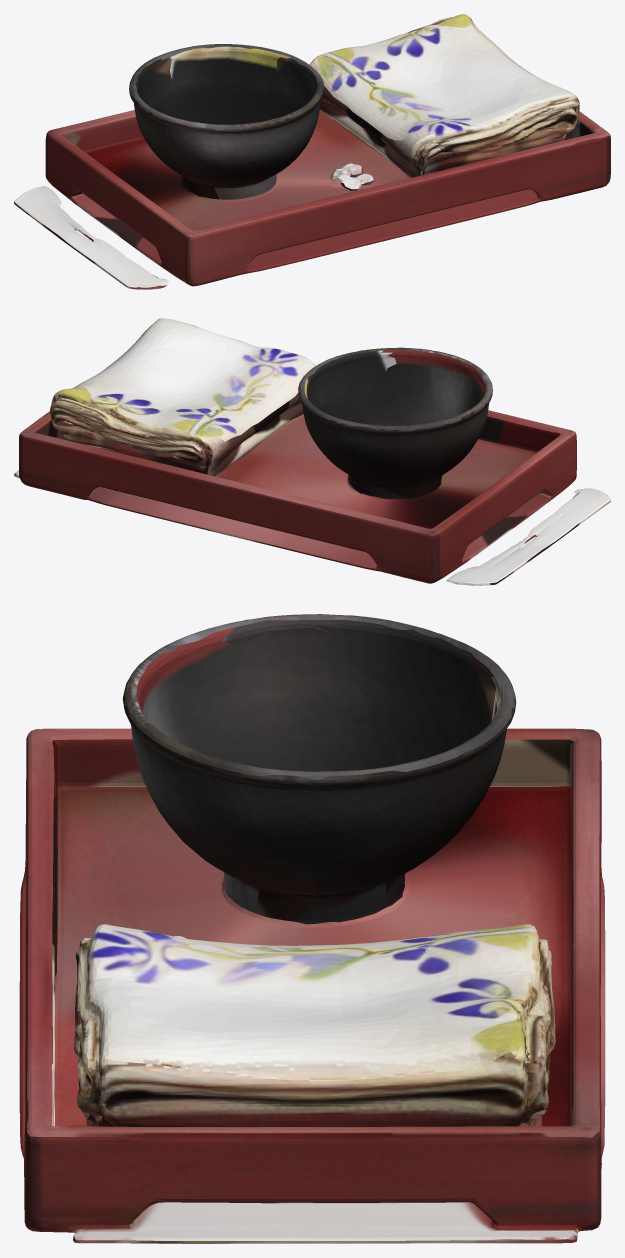
Rendered from traveler_env_coast_ojatara_incense_set_00001_.glb.
3 renders of one model, top to bottom at view 1: azimuth 30°, elevation 25°; view 2: azimuth 150°, elevation 25°; view 3: azimuth 270°, elevation 25°, orthographic. The views are drawn at different scales.
Parts seen in each view (by area): view 1: temp_mesh.ply; view 2: temp_mesh.ply; view 3: temp_mesh.ply.
Part boxes in pixels (<box>): temp_mesh.ply: <box>14,14,610,289</box>; temp_mesh.ply: <box>14,318,610,585</box>; temp_mesh.ply: <box>19,614,605,1243</box>.
Size of the model in its own units: 1.97 by 0.4857 by 1.05.
1 material, 1 textured.
